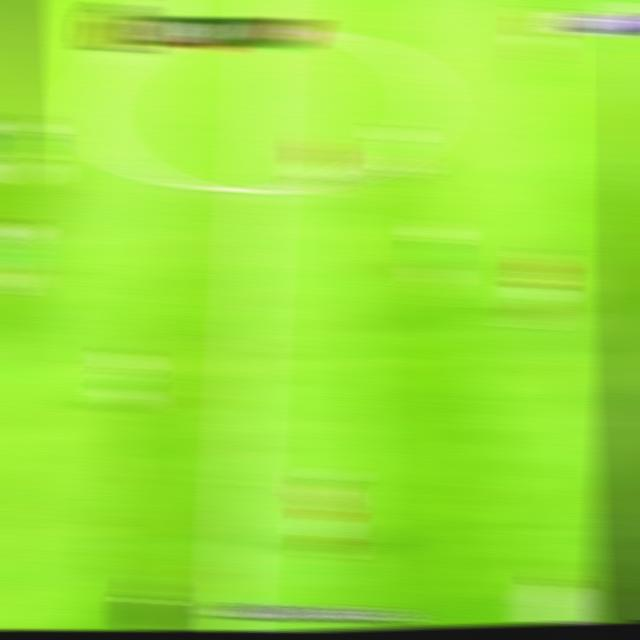halfcircle_bottom: (232, 170, 280, 209)
midline_bottom_intersection: (203, 614, 256, 632)
